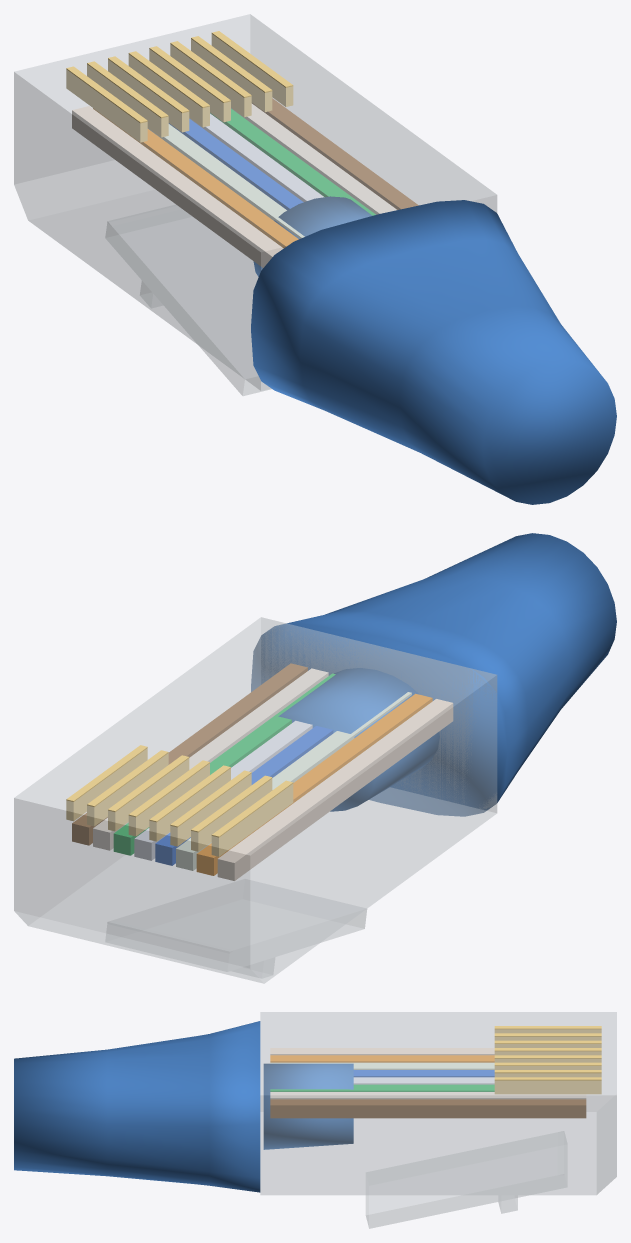
Rendered from rj45-plug.glb.
The picture shows the model from 3 angles, top to bottom: view 1: azimuth 30°, elevation 25°; view 2: azimuth 150°, elevation 25°; view 3: azimuth 270°, elevation 25°; orthographic projection. The views are drawn at different scales.
Parts seen in each view (by area): view 1: plug_body, plug_boot, plug_latch, plug_wire_0, plug_wire_1, plug_wire_7, plug_wire_6, plug_wire_2, plug_wire_5, plug_jacket_stub, plug_wire_3, plug_contact_0 (+8 smaller); view 2: plug_body, plug_boot, plug_latch, plug_wire_0, plug_jacket_stub, plug_wire_1, plug_wire_7, plug_wire_6, plug_wire_2, plug_contact_0, plug_wire_5, plug_wire_4 (+8 smaller); view 3: plug_body, plug_boot, plug_latch, plug_wire_7, plug_jacket_stub, plug_wire_6, plug_contact_7, plug_wire_1, plug_wire_0, plug_wire_5, plug_wire_2, plug_wire_3 (+9 smaller).
Part boxes in pixels (box(x1,y1,x2,y2)): plug_body: box(14, 14, 497, 390); plug_boot: box(251, 200, 616, 504); plug_latch: box(105, 205, 271, 395); plug_wire_0: box(72, 106, 283, 267); plug_wire_1: box(93, 108, 298, 247); plug_wire_7: box(252, 98, 418, 209); plug_wire_6: box(231, 104, 396, 214); plug_wire_2: box(148, 124, 304, 238); plug_wire_5: box(210, 109, 375, 215); plug_jacket_stub: box(253, 196, 372, 276); plug_wire_3: box(169, 119, 303, 210); plug_contact_0: box(66, 66, 147, 142); plug_body: box(14, 617, 497, 983); plug_boot: box(251, 533, 616, 816); plug_latch: box(105, 879, 367, 971); plug_wire_0: box(217, 699, 453, 880); plug_jacket_stub: box(278, 668, 439, 811); plug_wire_1: box(196, 694, 432, 875); plug_wire_7: box(72, 663, 307, 845); plug_wire_6: box(93, 668, 328, 850); plug_wire_2: box(176, 692, 411, 870); plug_contact_0: box(211, 780, 293, 856); plug_wire_5: box(113, 673, 335, 855); plug_wire_4: box(134, 721, 312, 860); plug_body: box(260, 1012, 616, 1195); plug_boot: box(14, 1021, 260, 1192); plug_latch: box(365, 1131, 567, 1228); plug_wire_7: box(270, 1099, 586, 1118); plug_jacket_stub: box(263, 1063, 353, 1149); plug_wire_6: box(270, 1092, 586, 1099); plug_contact_7: box(494, 1077, 601, 1094); plug_wire_1: box(270, 1055, 494, 1062); plug_wire_0: box(270, 1048, 494, 1055); plug_wire_5: box(270, 1084, 494, 1091); plug_wire_2: box(270, 1062, 494, 1069); plug_wire_3: box(353, 1070, 494, 1077).
Bounding box in the file's own units: 0.0126 × 0.0104 × 0.0355.
